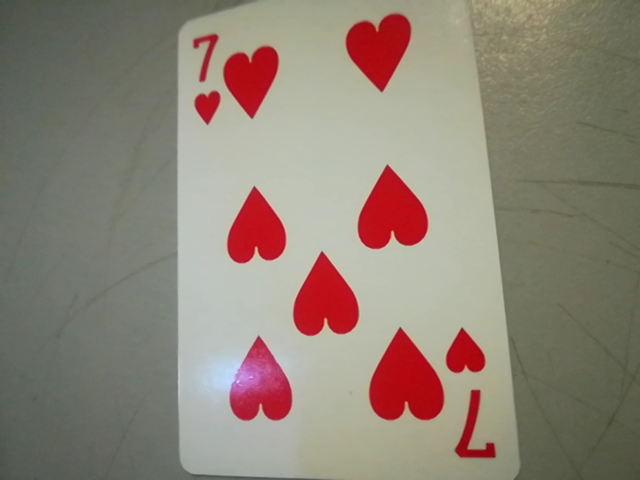hx 7: (443, 322, 511, 473)
